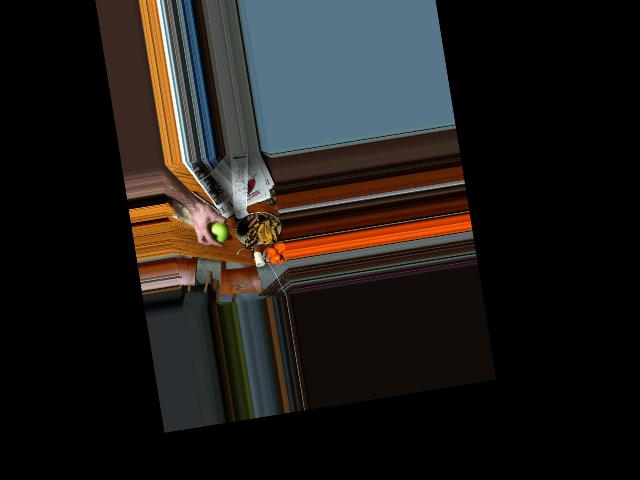apple: (206, 219, 232, 246)
